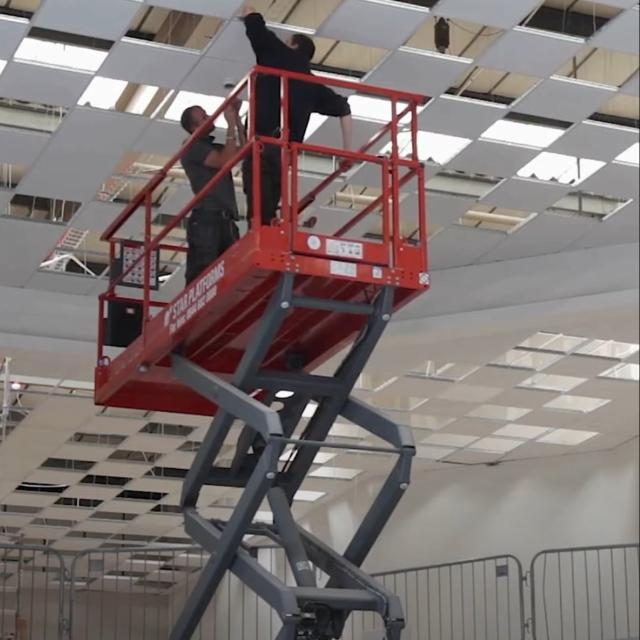2m above platform: (88, 59, 435, 634)
worker: (238, 2, 339, 222), (180, 110, 234, 262)
